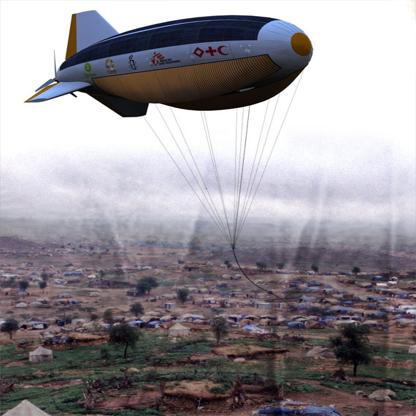Airship: (27, 7, 315, 126)
